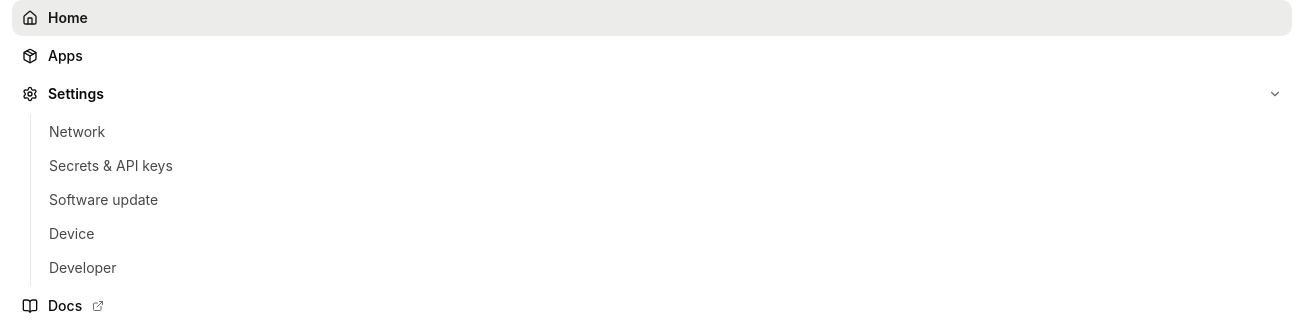
SidebarNav settings group › opens and closes the group from the Settings row without navigating
The image size is (1304, 330).
Click the button "Settings" at (76, 94), box [12,76,1292,112]
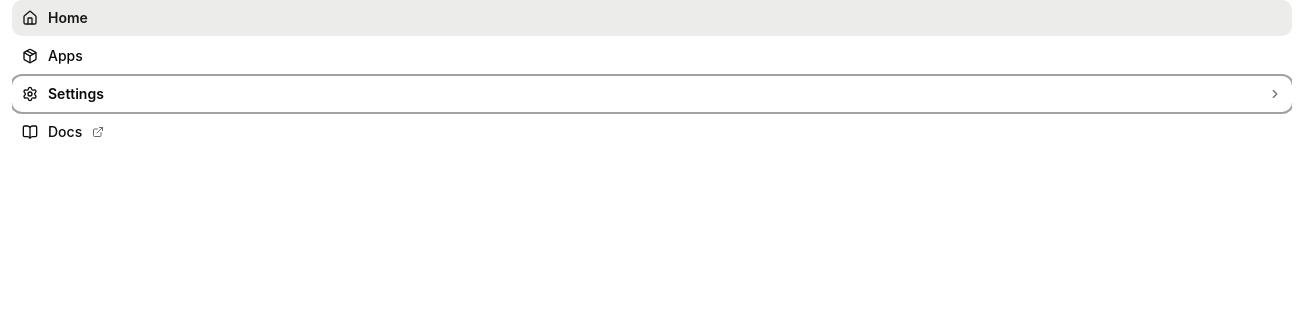
Expected: the button "Settings" is collapsed
Expected: the link "Network" is gone
Click the button "Settings" at (76, 94), box [12,76,1292,112]
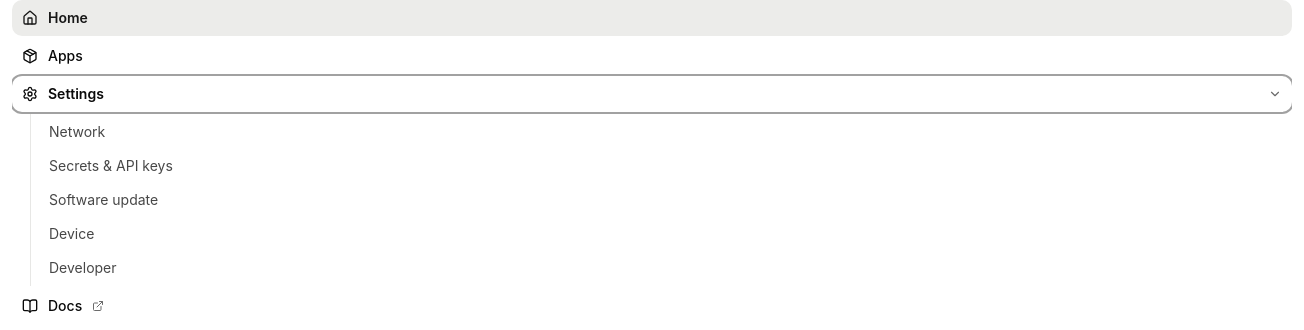
Expected: the button "Settings" is expanded, [12,76,1292,112]
